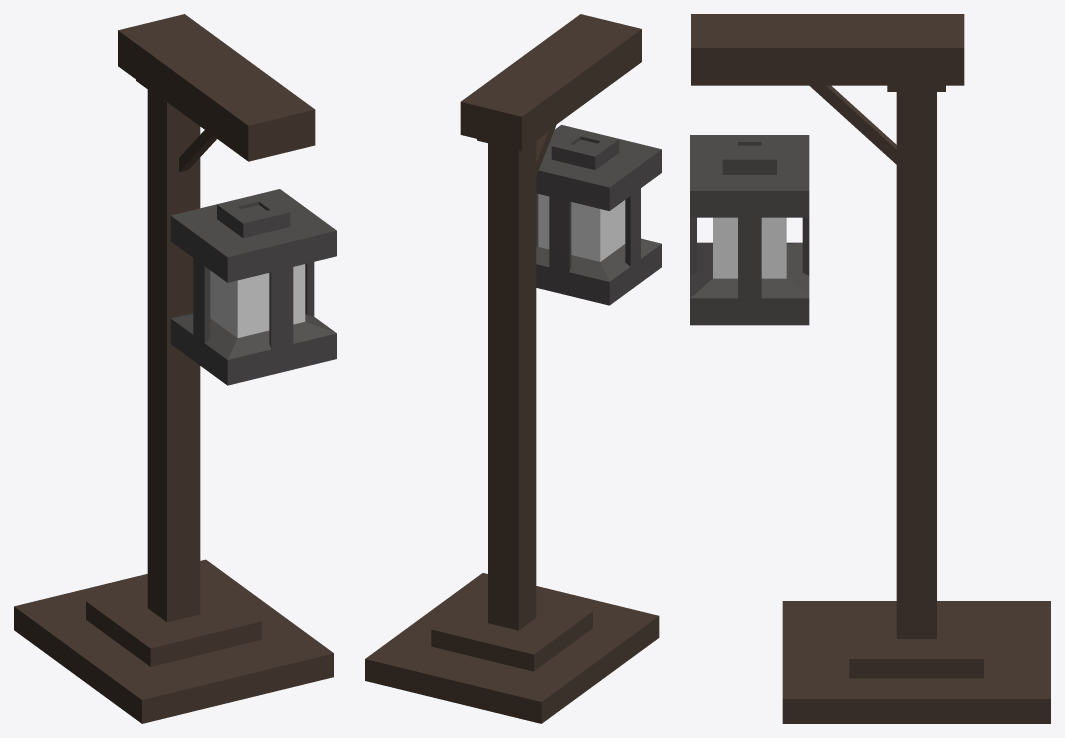
File: lamp_post (1).fbx
The picture shows the model from 3 angles, left to right: view 1: azimuth 30°, elevation 25°; view 2: azimuth 150°, elevation 25°; view 3: azimuth 270°, elevation 25°; orthographic projection. The views are drawn at different scales.
Parts seen in each view (by area): view 1: post, lamp; view 2: post, lamp; view 3: post, lamp.
Part boxes in pixels (x1=…): post: x1=14, y1=14, x2=333, y2=723; lamp: x1=170, y1=189, x2=336, y2=385; post: x1=365, y1=14, x2=659, y2=723; lamp: x1=536, y1=125, x2=661, y2=305; post: x1=691, y1=14, x2=1050, y2=723; lamp: x1=690, y1=135, x2=809, y2=325.
Bounding box in the file's own units: 1.34 × 4.09 × 2.08.
